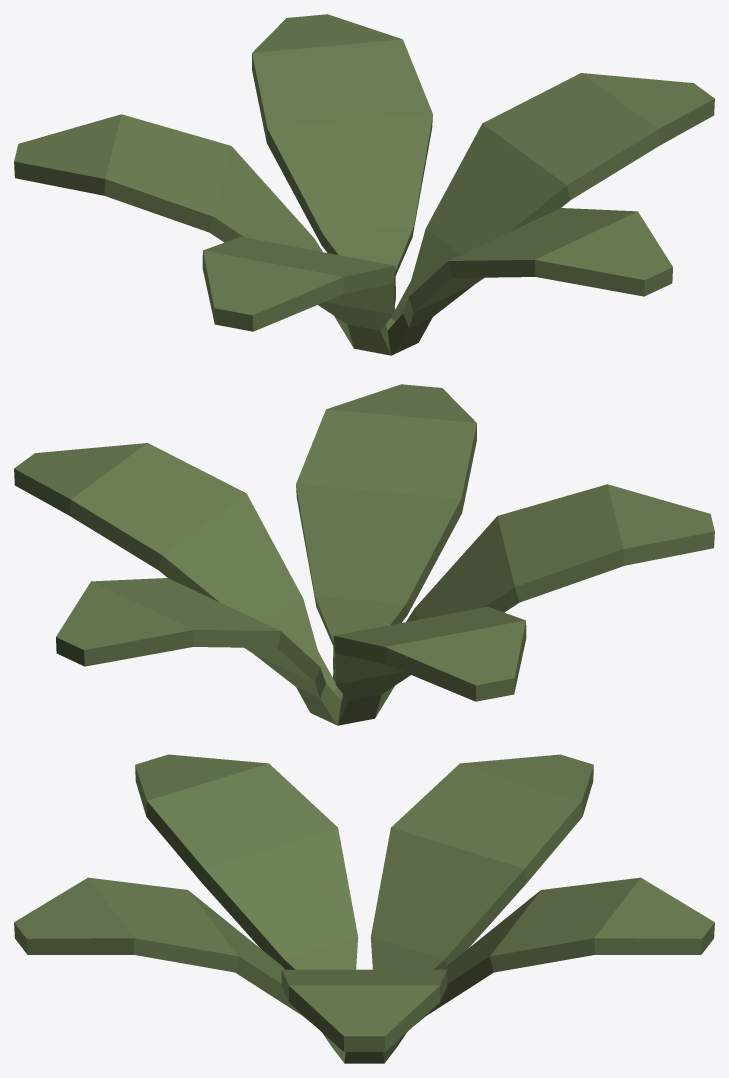
File: SM_Envr_Nature_Plant_03.fbx
3 renders of one model, top to bottom at view 1: azimuth 30°, elevation 25°; view 2: azimuth 150°, elevation 25°; view 3: azimuth 270°, elevation 25°, orthographic. The views are drawn at different scales.
Parts seen in each view (by area): view 1: SM_Envr_Nature_Plant_03; view 2: SM_Envr_Nature_Plant_03; view 3: SM_Envr_Nature_Plant_03.
Boxes of the visible parts, x1,y1,x2,y2 form: SM_Envr_Nature_Plant_03: [14, 14, 714, 355]; SM_Envr_Nature_Plant_03: [14, 384, 714, 725]; SM_Envr_Nature_Plant_03: [14, 754, 714, 1063].
Size of the model in its own units: 157 by 46.36 by 165.
